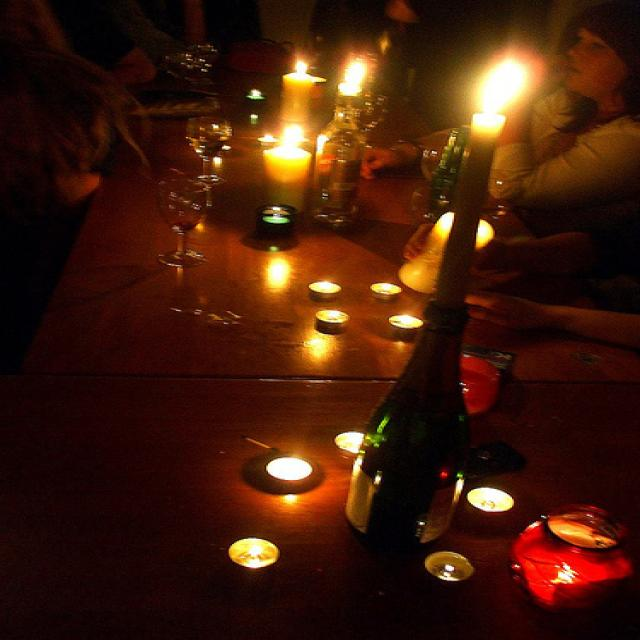Bottle: (335, 171, 533, 590), (385, 120, 485, 253)
Cup: (147, 113, 229, 279), (314, 114, 397, 243), (175, 27, 235, 134)
